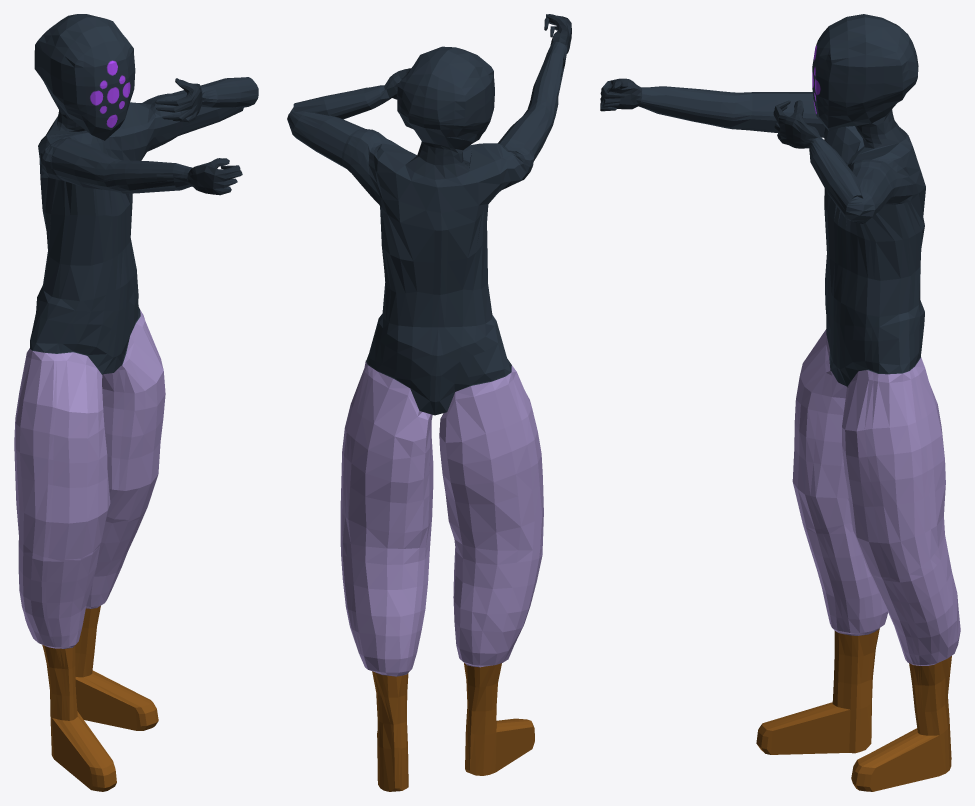
Rendered from Oracle_Attack_000020.obj.
3 renders of one model, left to right at view 1: azimuth 30°, elevation 25°; view 2: azimuth 150°, elevation 25°; view 3: azimuth 270°, elevation 25°, orthographic. The views are drawn at different scales.
Visible parts, largest first — view 1: Cube; view 2: Cube; view 3: Cube.
Boxes of the visible parts, left/top/right/bottom form: Cube: left=14, top=14, right=258, bottom=791; Cube: left=287, top=14, right=571, bottom=791; Cube: left=600, top=14, right=960, bottom=791.
Size of the model in its own units: 1.37 by 3.94 by 1.72.
